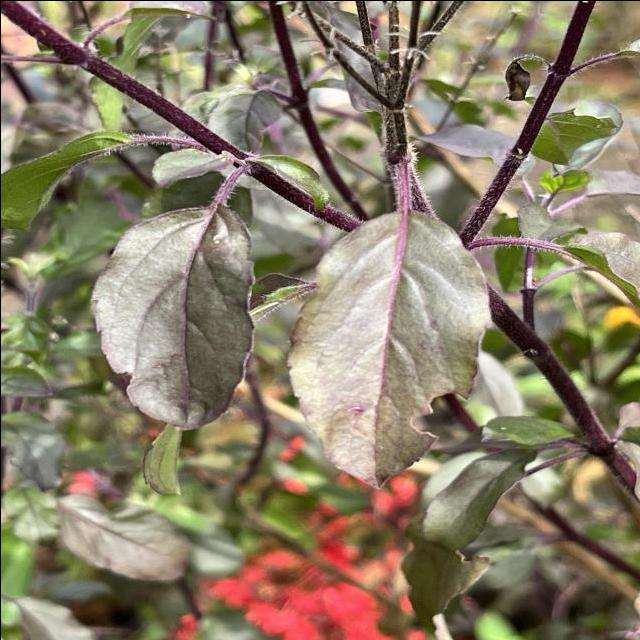Ocimum tenuiflorum: (283, 207, 494, 492), (88, 201, 256, 432)
